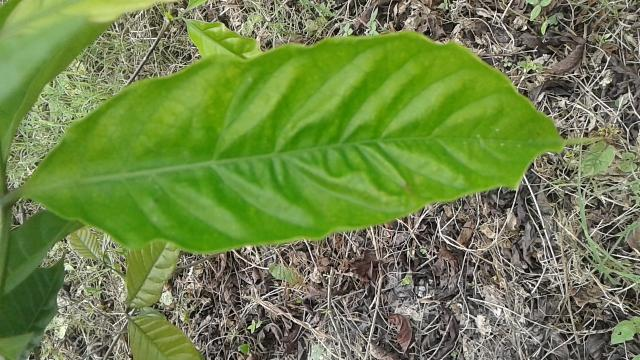healthy: (33, 40, 552, 255)
